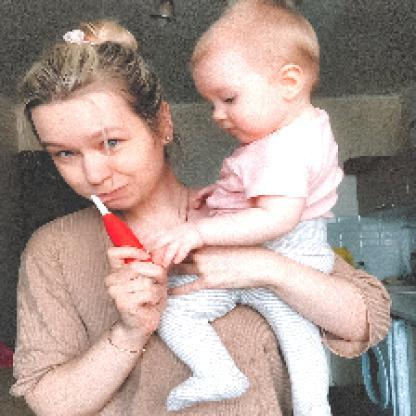child: (157, 1, 347, 415)
